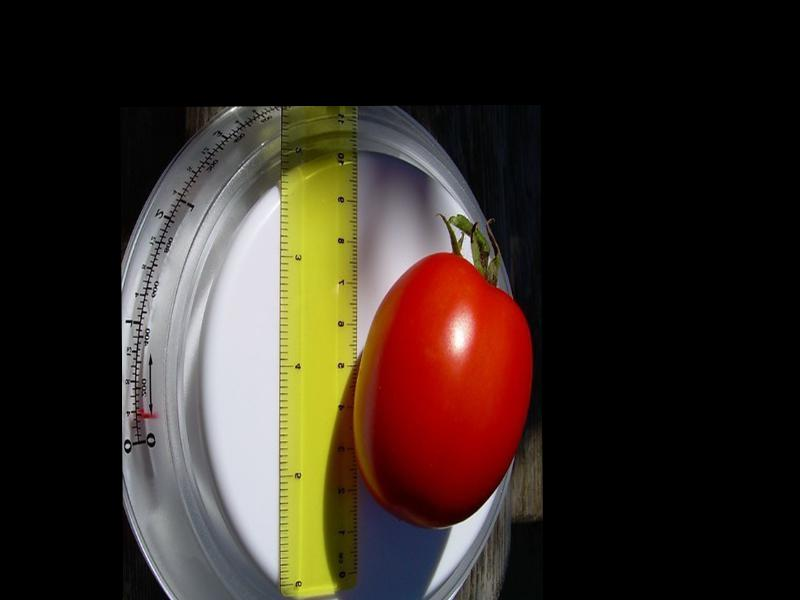Tomato: (347, 250, 534, 527)
